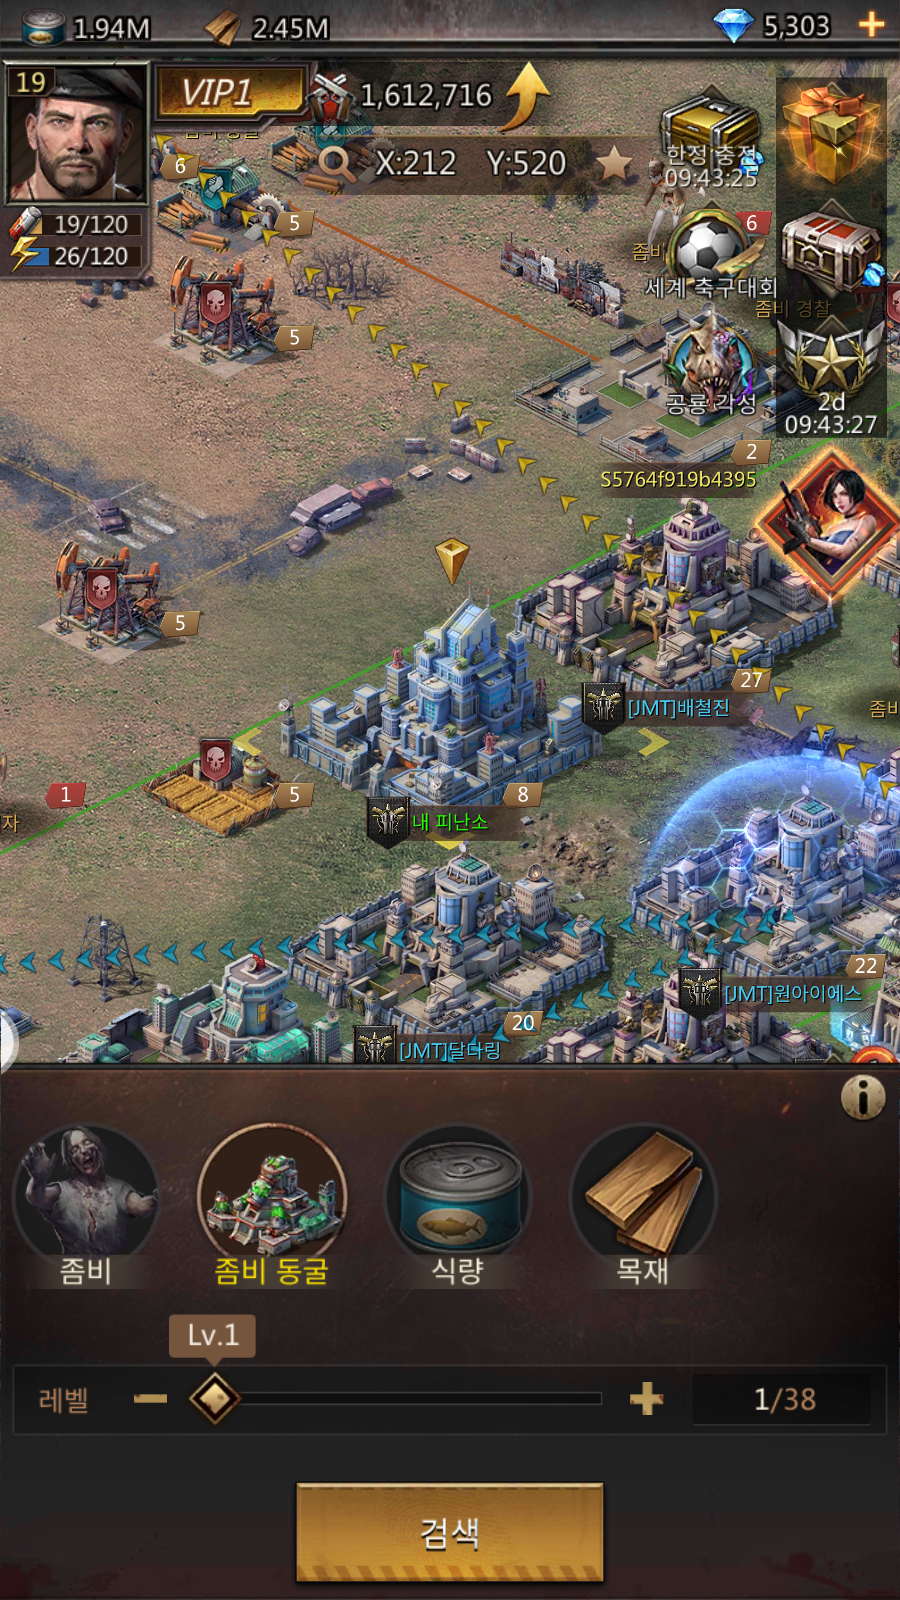rss_food_in_panel: (385, 1125, 538, 1291)
rss_lv1: (164, 1310, 258, 1359)
rss_minus_in_panel: (120, 1374, 175, 1422)
rss_plus_in_panel: (625, 1369, 670, 1422)
rss_search_in_panel: (298, 1485, 602, 1580)
rss_wood_in_panel: (571, 1119, 715, 1291)
